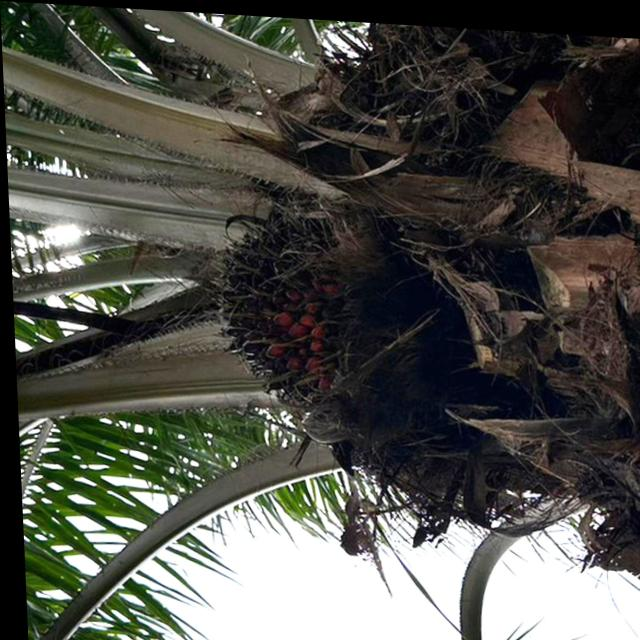ripe: (184, 182, 420, 431)
